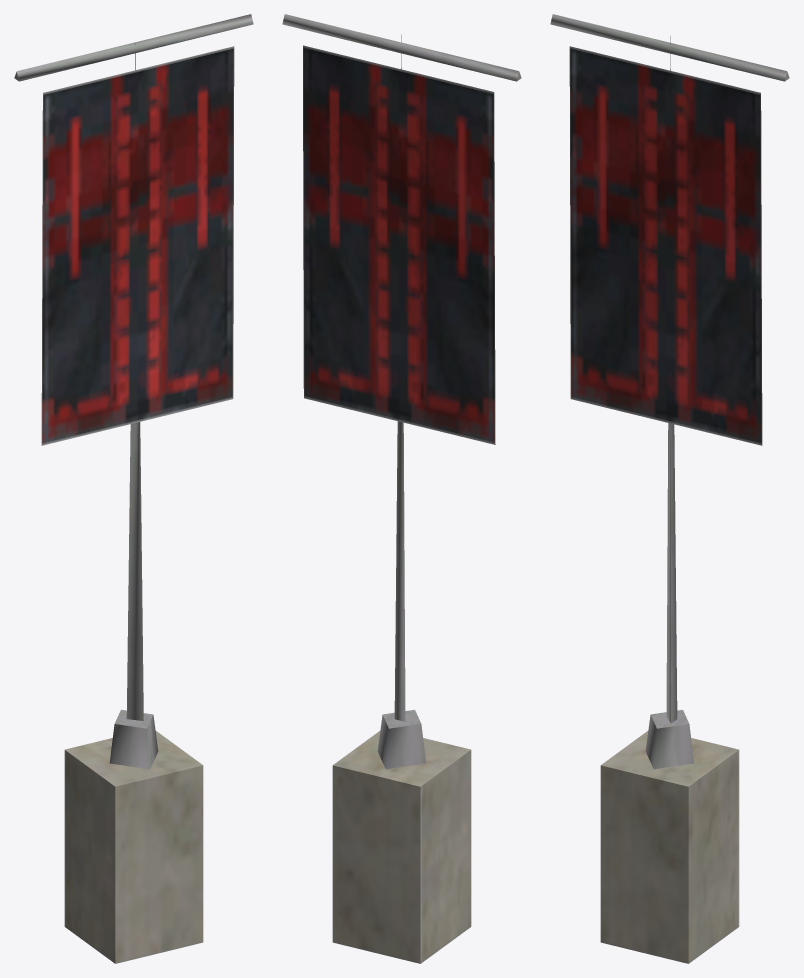
The model's file is thm_corl_banner_govt_tall_l2.fbx.
The picture shows the model from 3 angles, left to right: view 1: azimuth 30°, elevation 25°; view 2: azimuth 150°, elevation 25°; view 3: azimuth 330°, elevation 25°; orthographic projection.
Visible parts, largest first — view 1: mesh_node; view 2: mesh_node; view 3: mesh_node.
Boxes of the visible parts, <box> form: mesh_node: <box>14,14,253,963</box>; mesh_node: <box>282,14,521,963</box>; mesh_node: <box>550,14,789,963</box>.
Size of the model in its own units: 2 by 7.37 by 0.75.
Materials: 1 (1 with a texture image).
